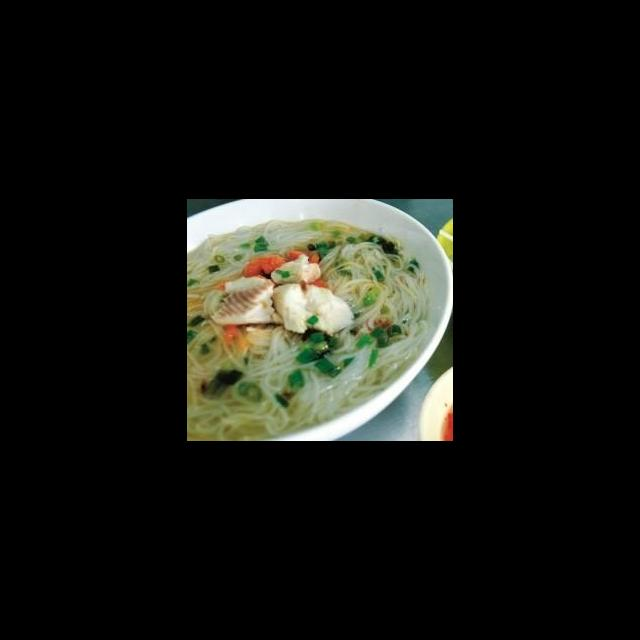bun: (188, 333, 427, 438), (316, 226, 436, 338), (188, 214, 323, 276)
bun ca: (193, 210, 453, 441)
ca: (266, 278, 359, 335), (204, 270, 282, 328), (266, 251, 326, 287)
tom: (239, 252, 292, 282), (284, 246, 322, 271)
